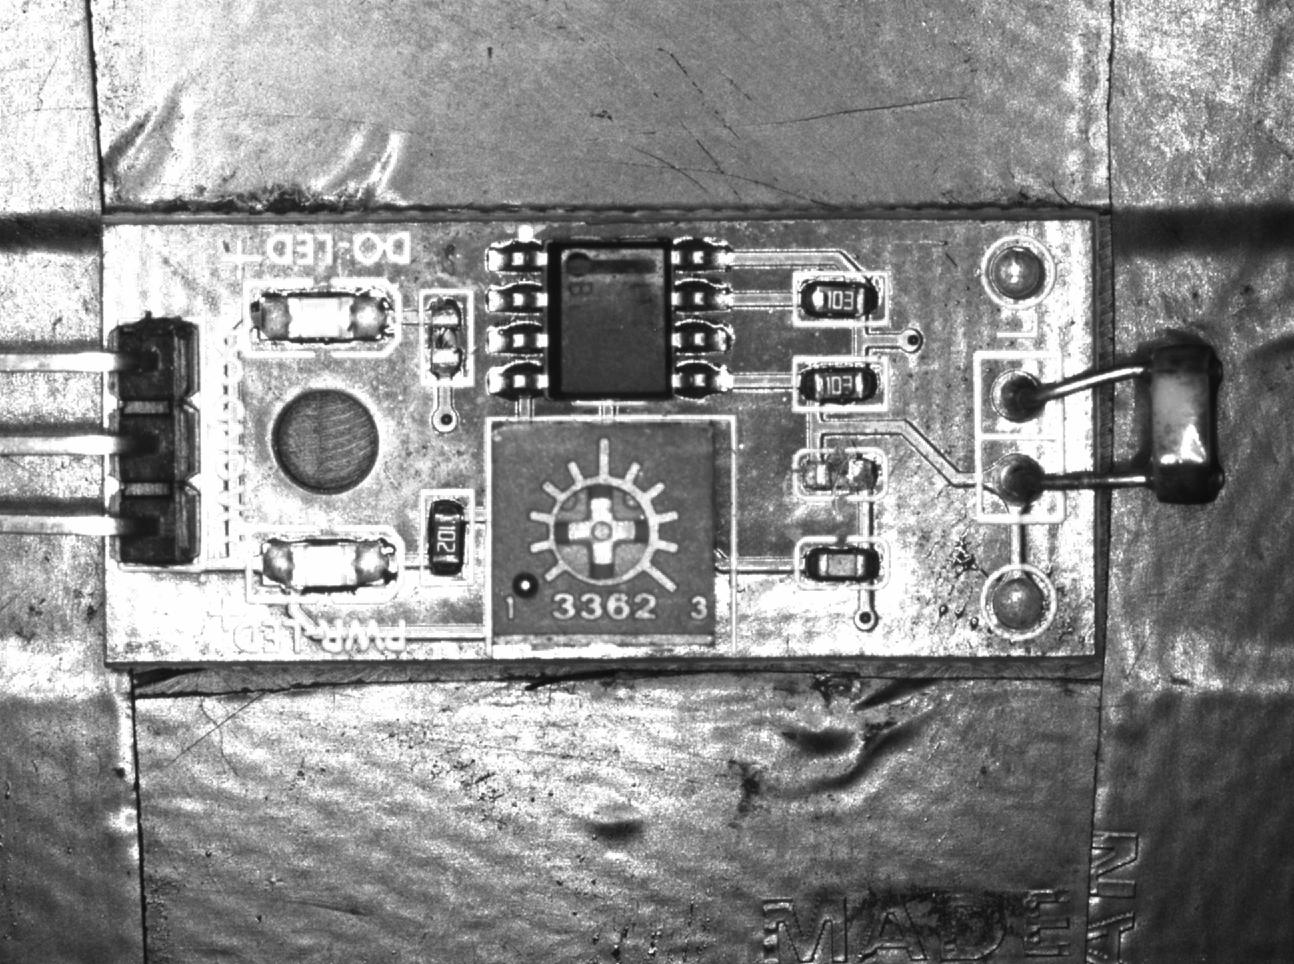miss: (419, 290, 474, 388), (789, 449, 888, 499)
ok: (794, 271, 889, 324), (793, 358, 886, 411), (796, 539, 888, 589), (424, 489, 470, 583)
